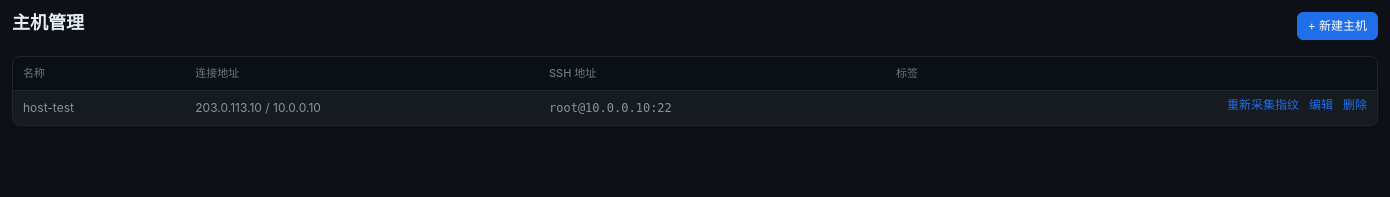
Test: HostManagerTab › keeps a Host visible when Agent configuration blocks deletion
Click the button with test id "host-delete".
click(1355, 104)  # box [1343,98,1367,110]
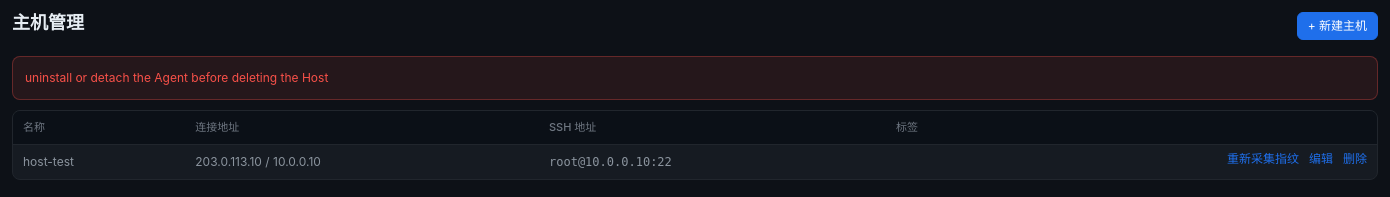
expect the row with test id "host-row" is shown: met, box [13,144,1377,178]
expect the text "uninstall or detach the Agent" is shown: met, box [25,70,328,85]
